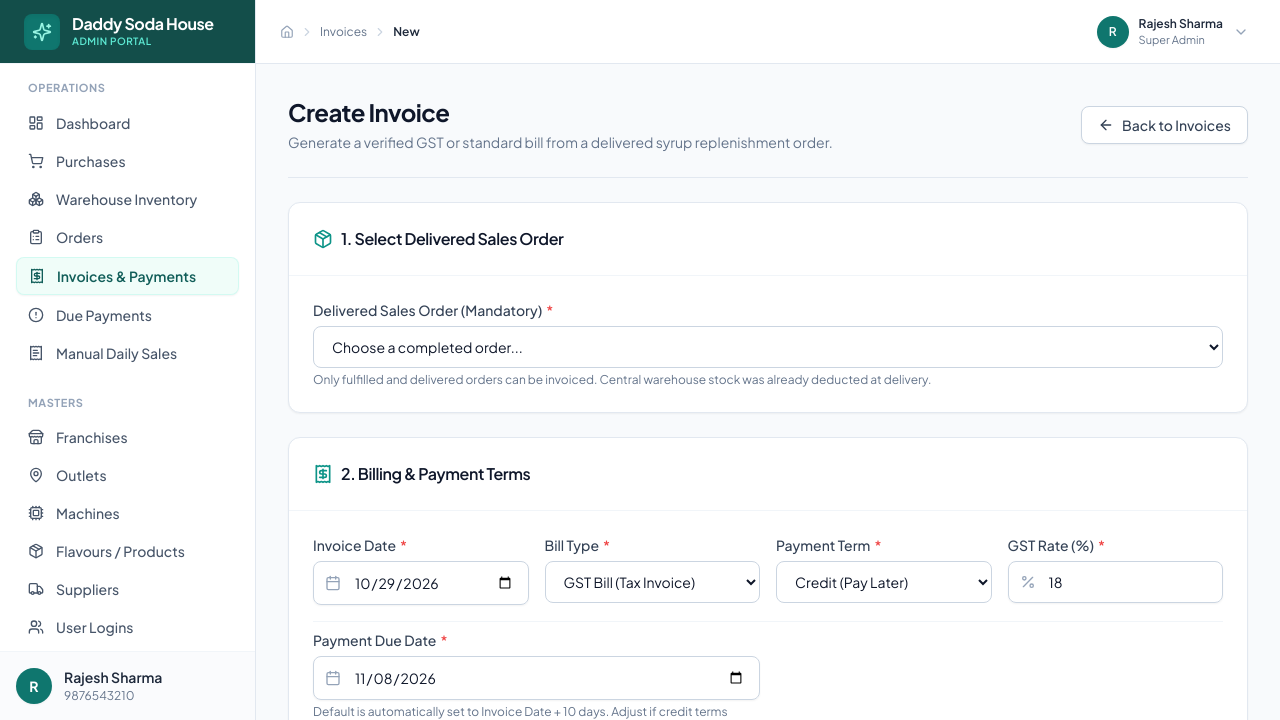
Test case: Daddy Soda House Invoices & Payment Module (FE-05) › hides due date field when payment term is Full Payment
Expected: the heading "Create Invoice" is shown, [288, 96, 449, 128]
Expected: the date field labelled "Payment Due Date*" is shown, [313, 656, 760, 700]
# Select FULL_PAYMENT
Select "Full Payment (Immediate)" in the dropdown labelled "Payment Term*" at (884, 582), box [776, 561, 992, 603]
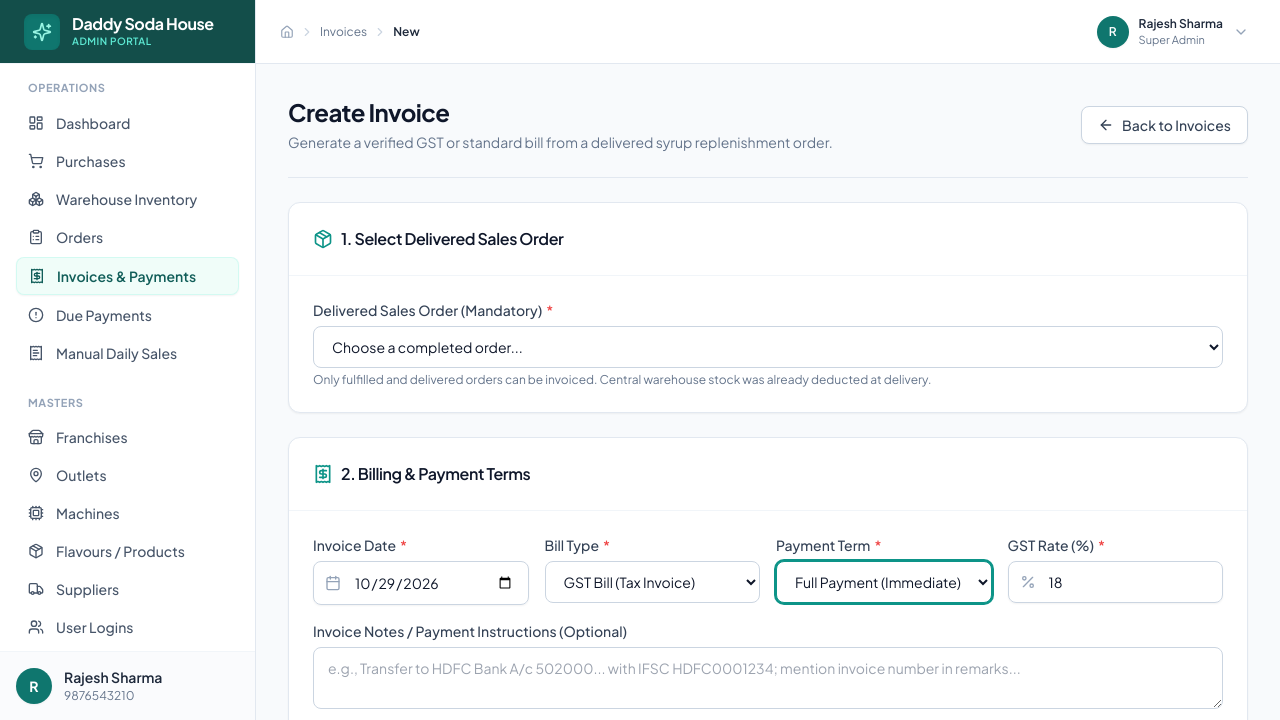
Expected: the label labelled "Payment Due Date" is gone
